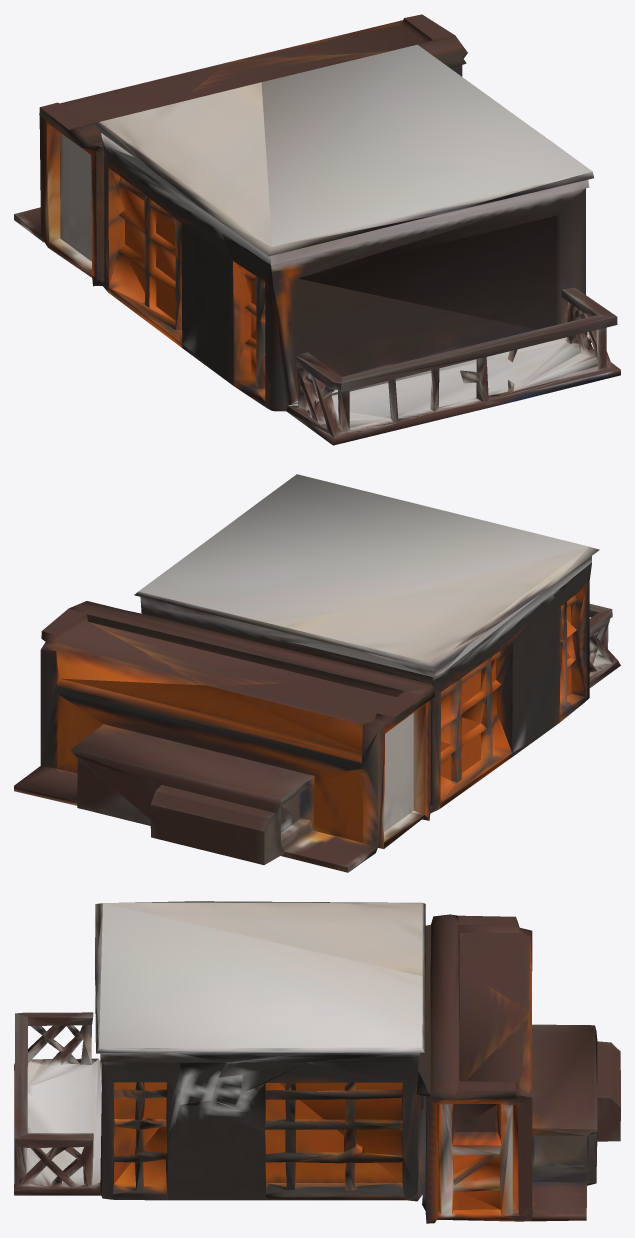
The picture shows the model from 3 angles, top to bottom: view 1: azimuth 30°, elevation 25°; view 2: azimuth 150°, elevation 25°; view 3: azimuth 270°, elevation 25°; orthographic projection. The views are drawn at different scales.
Visible parts, largest first — view 1: tripo_node_fb7e8506.008; view 2: tripo_node_fb7e8506.008; view 3: tripo_node_fb7e8506.008.
Part boxes in pixels (x1,y1,x2,y2): tripo_node_fb7e8506.008: (14,14,620,445); tripo_node_fb7e8506.008: (14,474,620,872); tripo_node_fb7e8506.008: (14,901,620,1223).
Size of the model in its own units: 26.04 by 10.77 by 37.76.
Materials: 1 (1 with a texture image).
